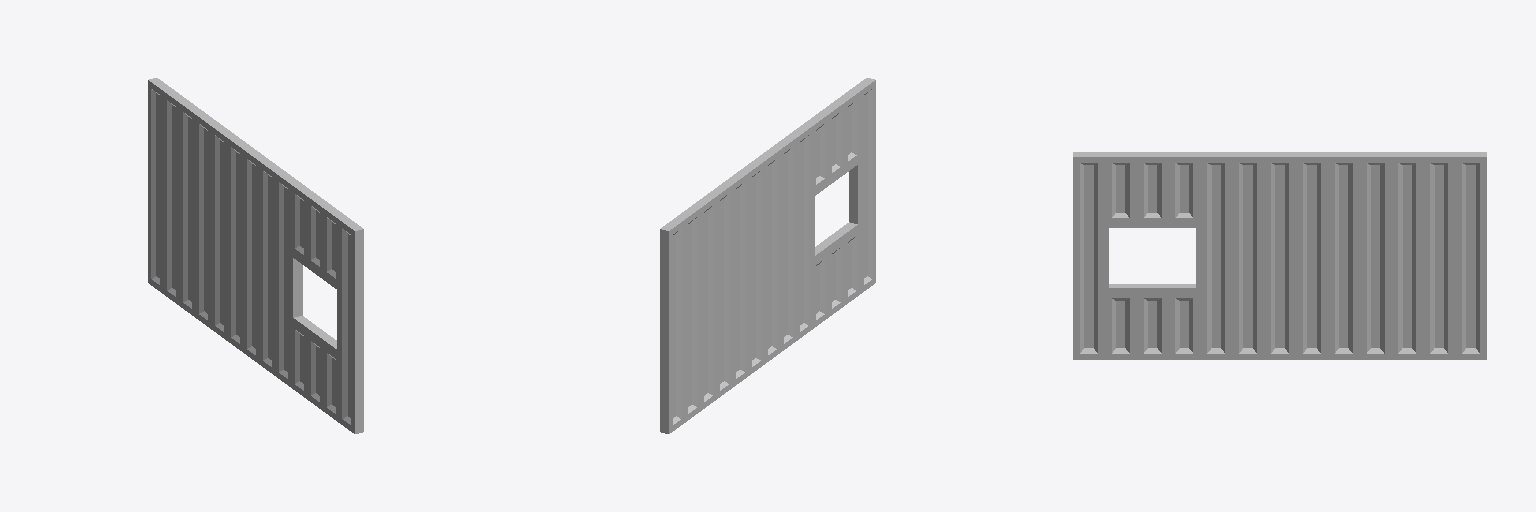
Rendered from ContainerBack.obj.
3 views of the same model, side by side, from view 1: azimuth 30°, elevation 25°; view 2: azimuth 150°, elevation 25°; view 3: azimuth 270°, elevation 25° (orthographic).
Bounding box in the file's own units: 12.27 × 260 × 480.